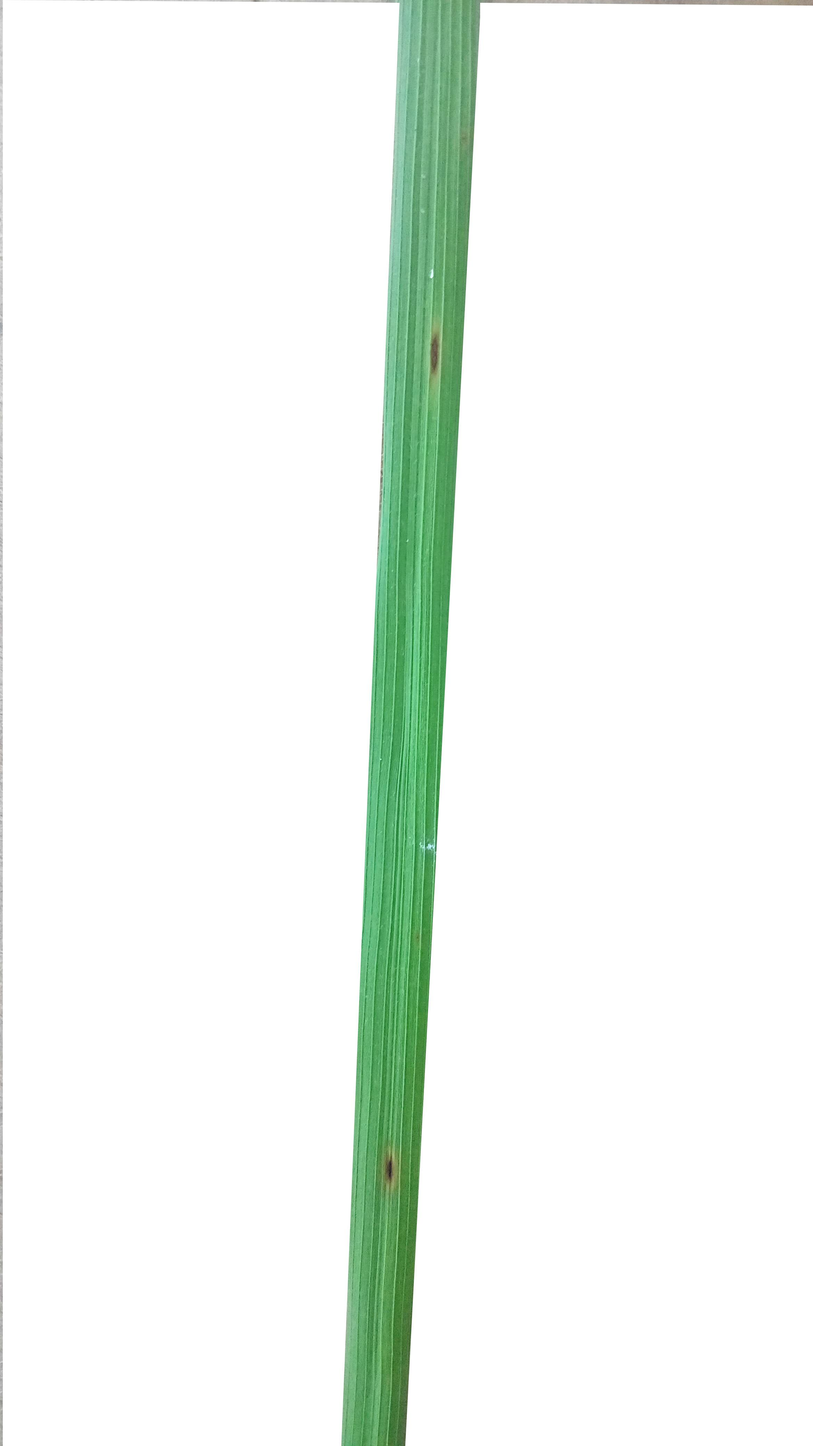Brown spot: (375, 1141, 404, 1205), (423, 320, 447, 389)
